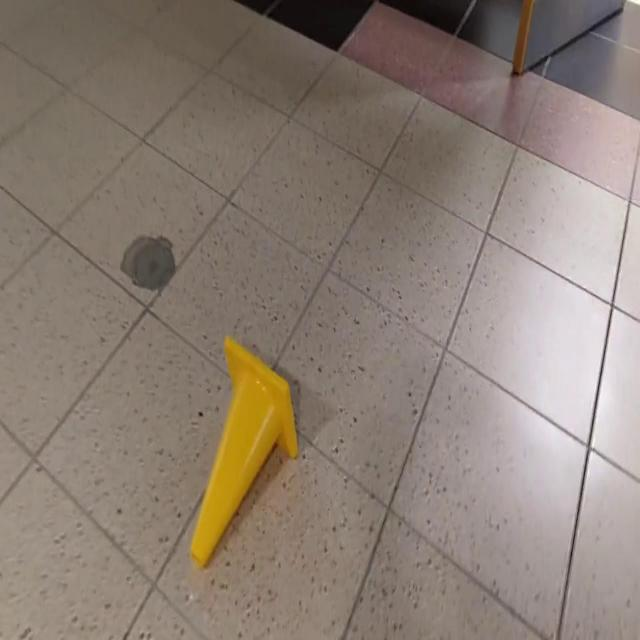frc_cone: (191, 335, 300, 570)
